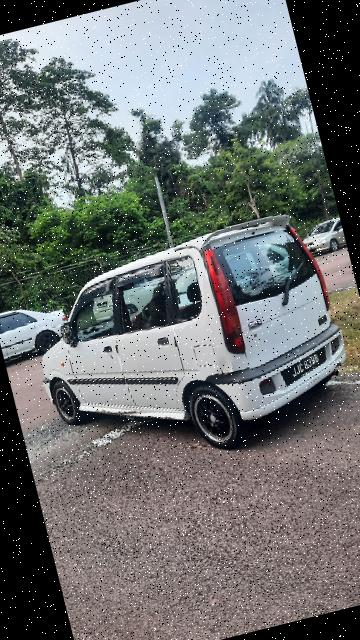License_Plate: (275, 345, 339, 390)
car: (18, 205, 360, 485)
